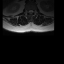CCS_normal: (30, 8, 31, 15)
LFS_normal: (33, 9, 34, 13)
LLS_normal: (31, 9, 33, 14)
RFS_normal: (27, 9, 28, 14)
RLS_normal: (28, 9, 30, 14)
